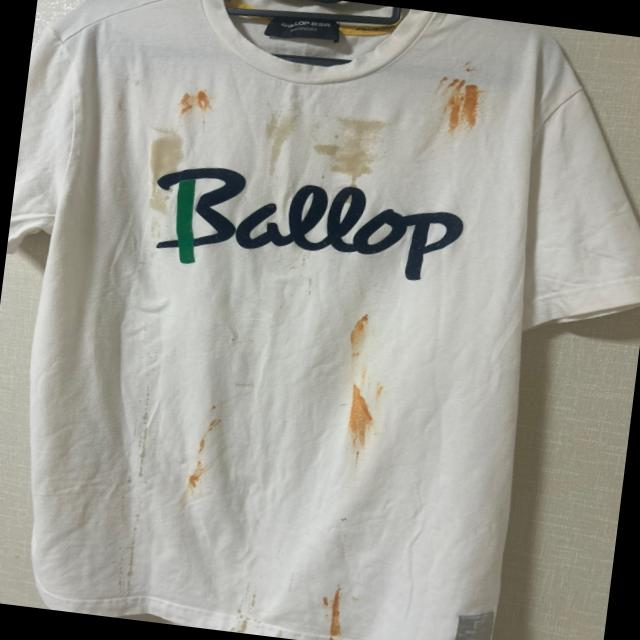stain: (305, 107, 391, 188), (108, 509, 156, 613), (338, 378, 394, 466), (427, 69, 492, 141), (135, 127, 187, 217), (180, 408, 232, 498), (127, 384, 162, 484), (256, 114, 300, 180), (334, 304, 379, 366), (224, 578, 270, 636), (313, 582, 359, 640), (170, 80, 222, 120), (454, 55, 475, 78)
